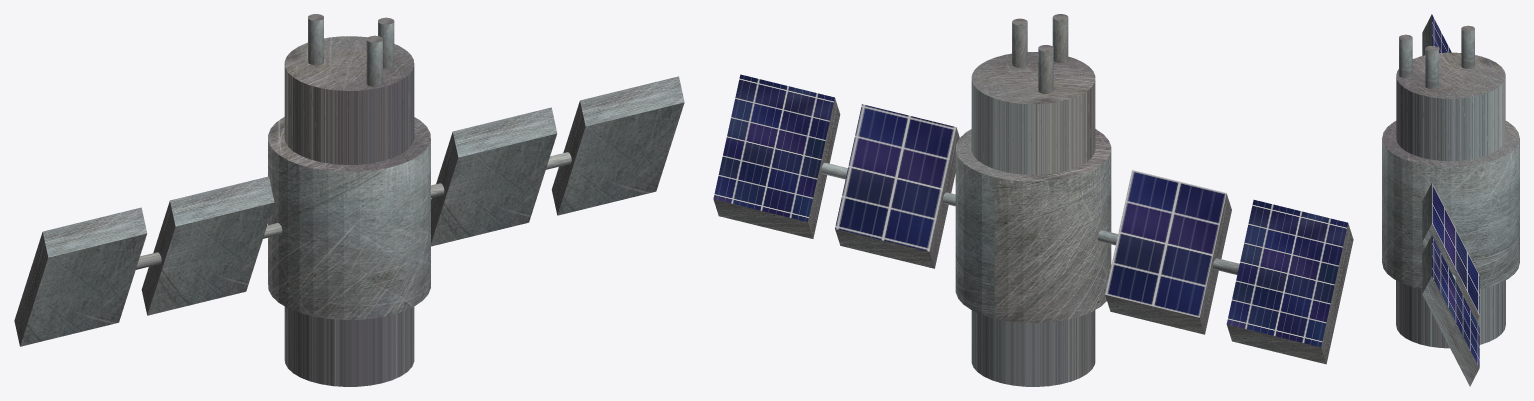
File: satelite1.fbx
3 renders of one model, left to right at view 1: azimuth 30°, elevation 25°; view 2: azimuth 150°, elevation 25°; view 3: azimuth 270°, elevation 25°, orthographic. The views are drawn at different scales.
Visible parts, largest first — view 1: Cylinder.001; view 2: Cylinder.001; view 3: Cylinder.001.
Boxes of the visible parts, x1,y1,x2,y2 form: Cylinder.001: (14,14,684,386); Cylinder.001: (713,14,1353,386); Cylinder.001: (1382,14,1519,386).
Bounding box in the file's own units: 900 × 460 × 200.
Materials: 5 (5 with a texture image).
